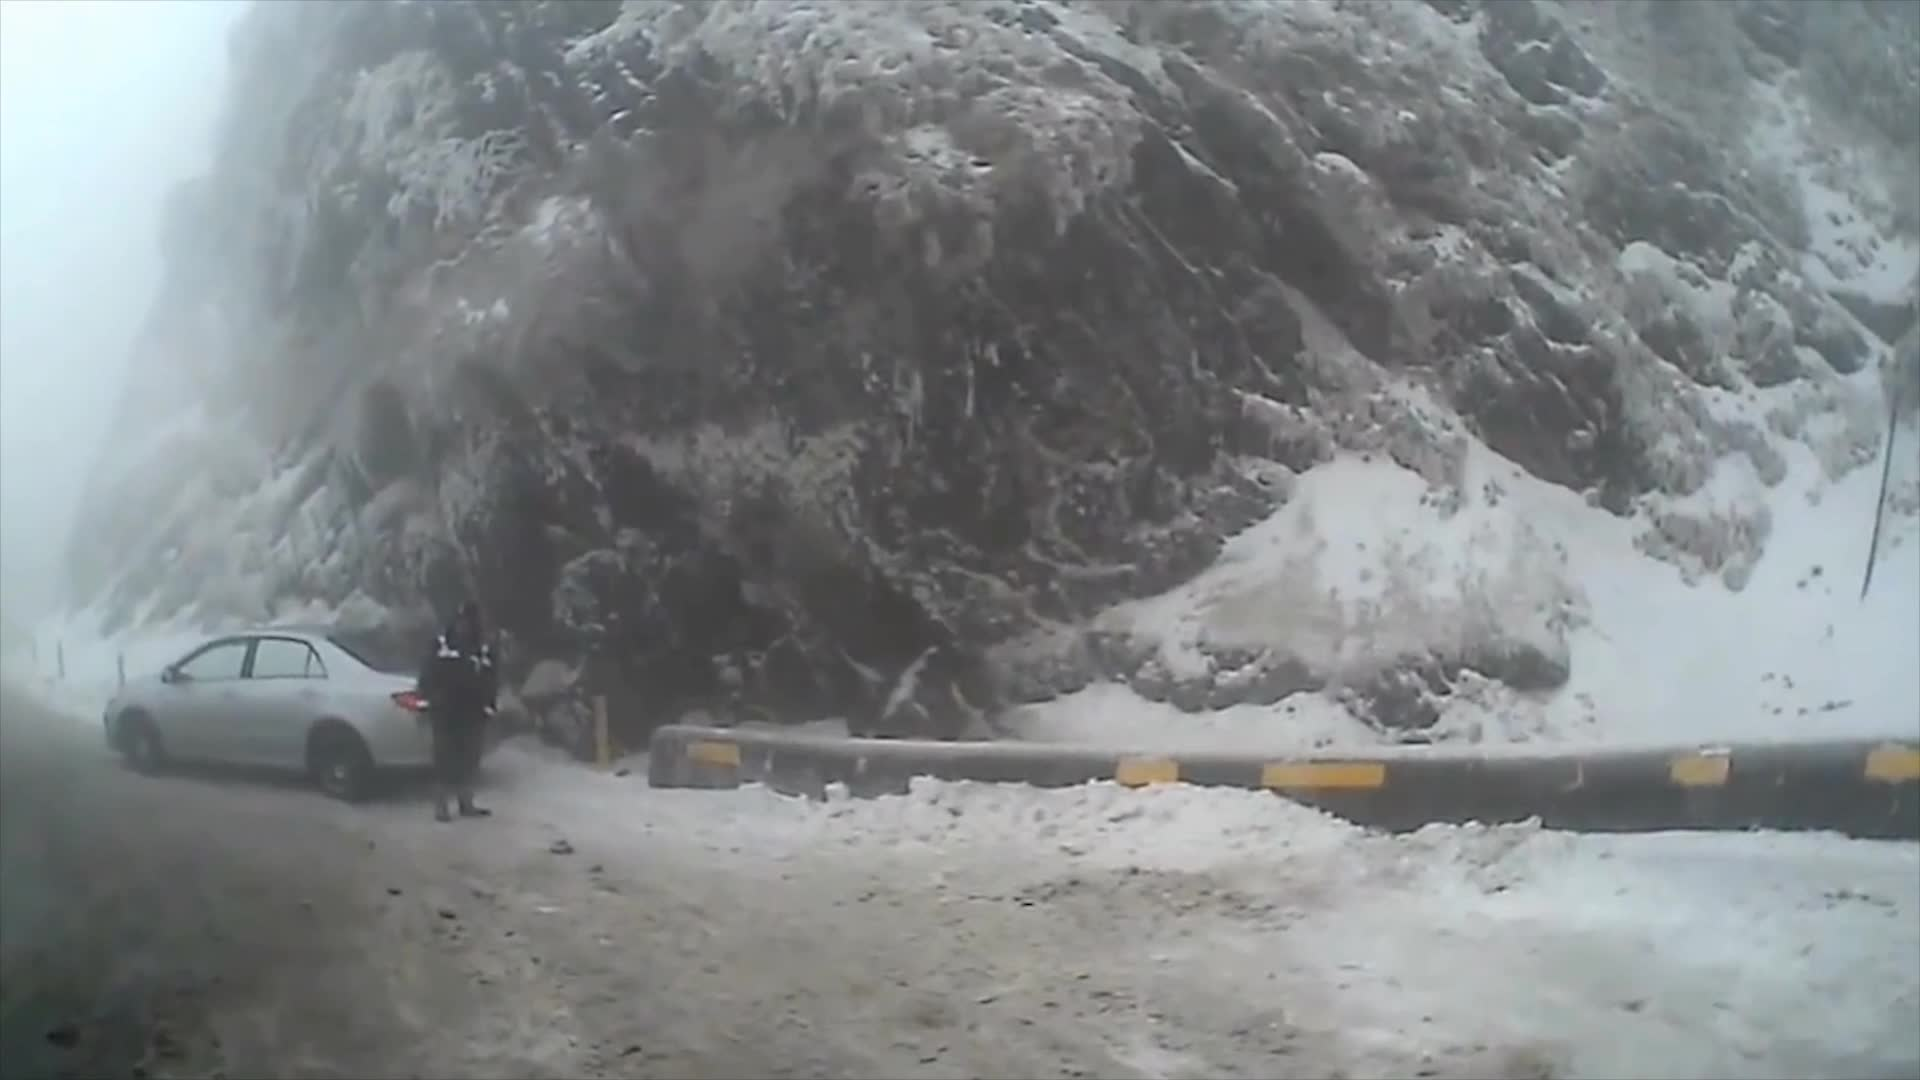pedestrian: (420, 597, 504, 822)
vehicle: (105, 621, 504, 804)
